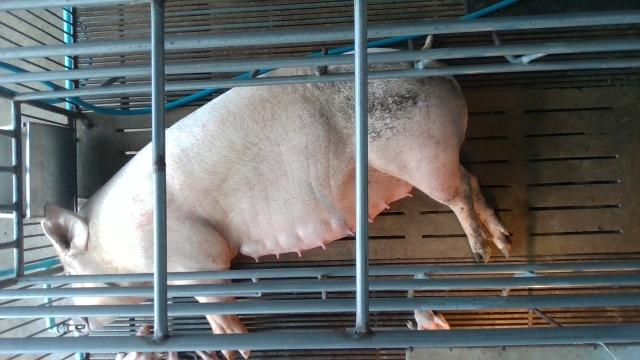sow-sleep-lactate: (36, 47, 512, 360)
